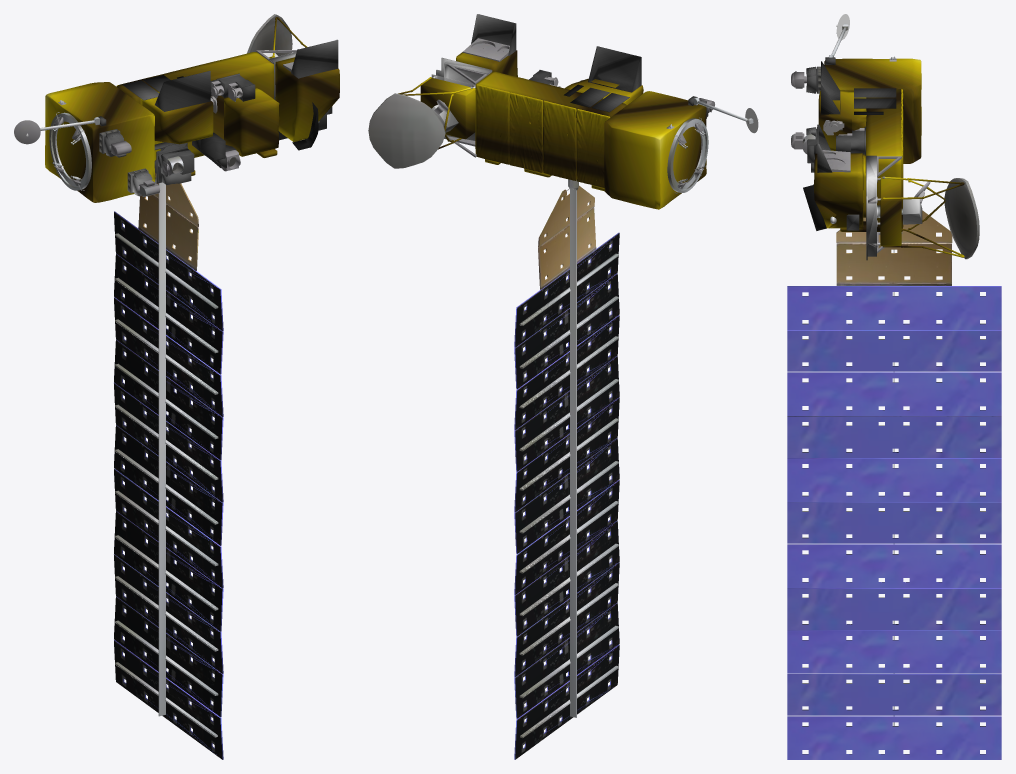
File: aqua.glb
3 renders of one model, left to right at view 1: azimuth 30°, elevation 25°; view 2: azimuth 150°, elevation 25°; view 3: azimuth 270°, elevation 25°, orthographic. The views are drawn at different scales.
Parts seen in each view (by area): view 1: tex_01, foil_gold, foil_silver, shiny_panel; view 2: tex_01, foil_gold, gold_2, foil_silver, shiny_panel; view 3: shiny_panel, foil_gold, tex_01, foil_silver, black_krinkle.
Part boxes in pixels (box(x1,y1,x2,y2)): tex_01: box(14, 14, 319, 759); foil_gold: box(45, 17, 339, 202); foil_silver: box(98, 39, 338, 196); shiny_panel: box(114, 211, 223, 759); tex_01: box(368, 38, 758, 759); foil_gold: box(398, 50, 706, 209); gold_2: box(476, 84, 610, 187); foil_silver: box(431, 14, 711, 140); shiny_panel: box(514, 232, 619, 759); shiny_panel: box(787, 286, 1001, 759); foil_gold: box(814, 58, 964, 257); tex_01: box(787, 14, 1001, 754); foil_silver: box(795, 57, 922, 260); black_krinkle: box(803, 111, 883, 230).
Bounding box in the file's own units: 9.4 × 17.78 × 5.08.
Materials: 5 (4 with a texture image).
